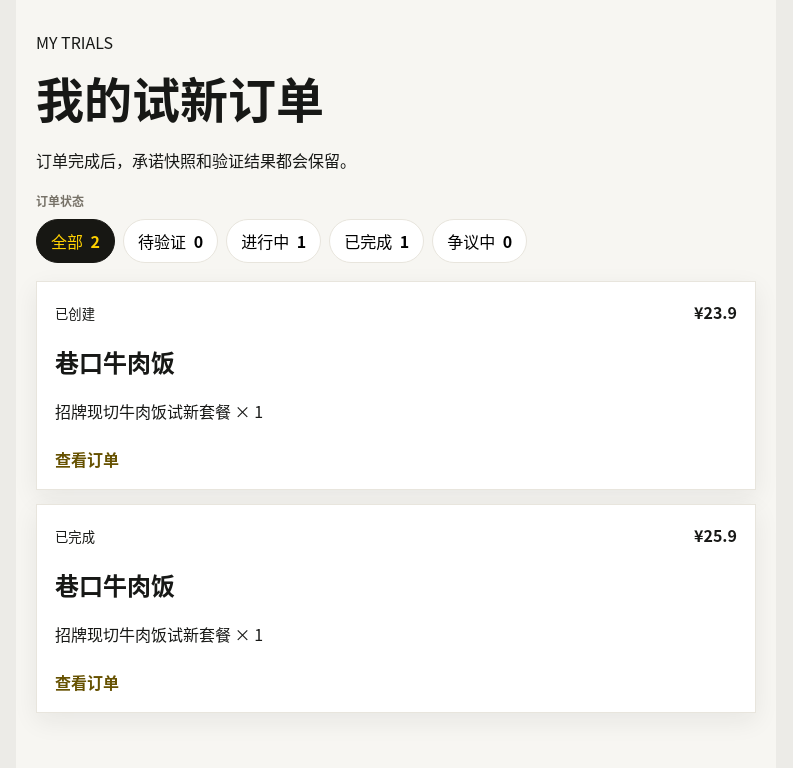
it: filters orders by meaningful status tabs
The image size is (793, 768).
Check: the button "全部 2" is shown, box [36,219,115,263]
Check: the number of headings "巷口牛肉饭" is 2, box [55,344,175,379]; [55,567,175,602]
Click the button "已完成 1": (377, 241) [329,219,424,263]
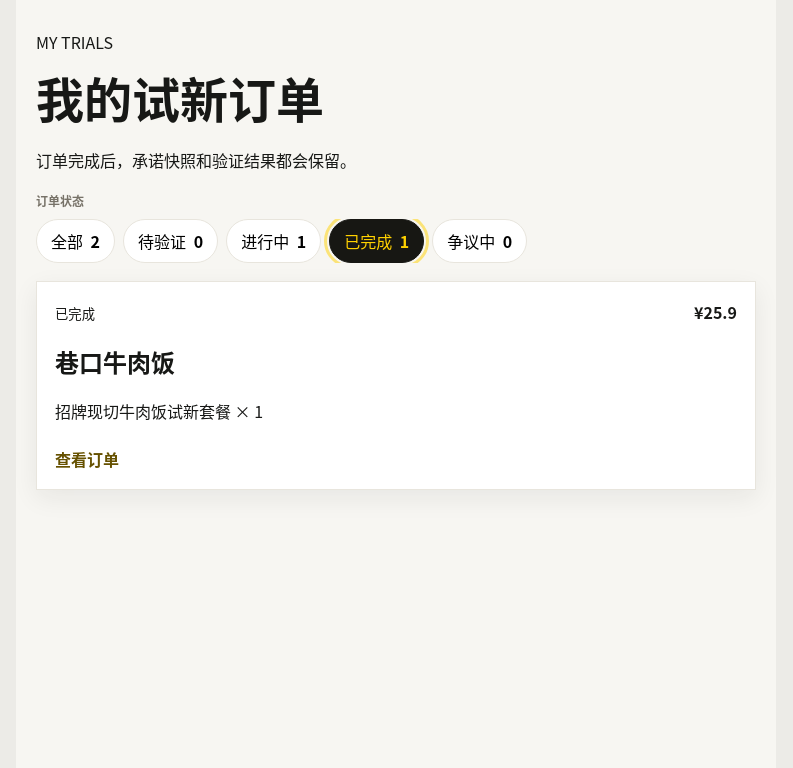
Check: the number of headings "巷口牛肉饭" is 1, box [55,344,175,379]
Check: the number of buttons "已完成 1" is 2, box [329,219,424,263]; [55,304,95,323]
Click the button "争议中 0": (480, 241) [432,219,527,263]
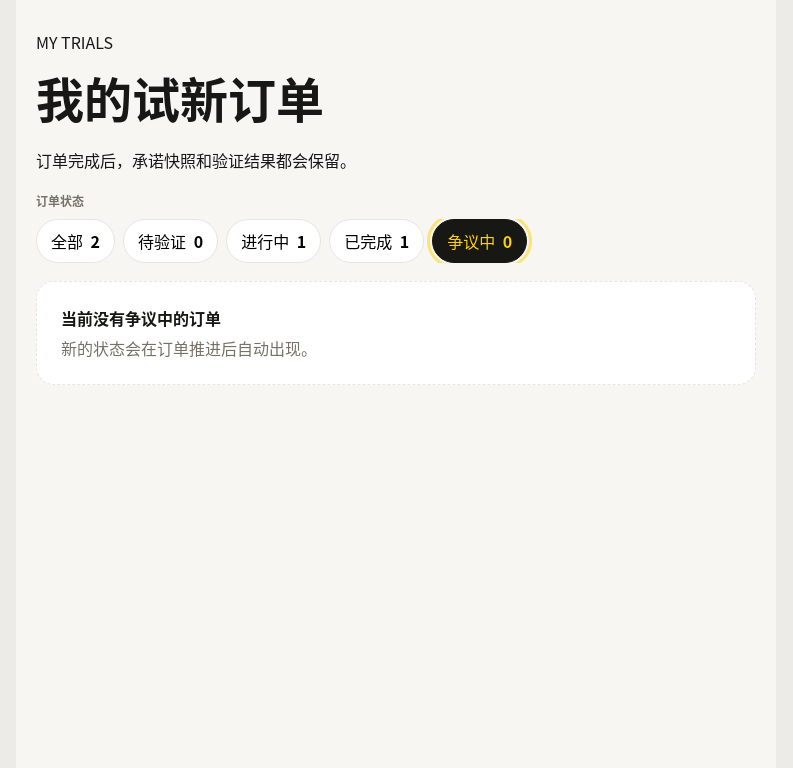
Check: the text "当前没有争议中的订单" is shown, box [61,306,221,330]
